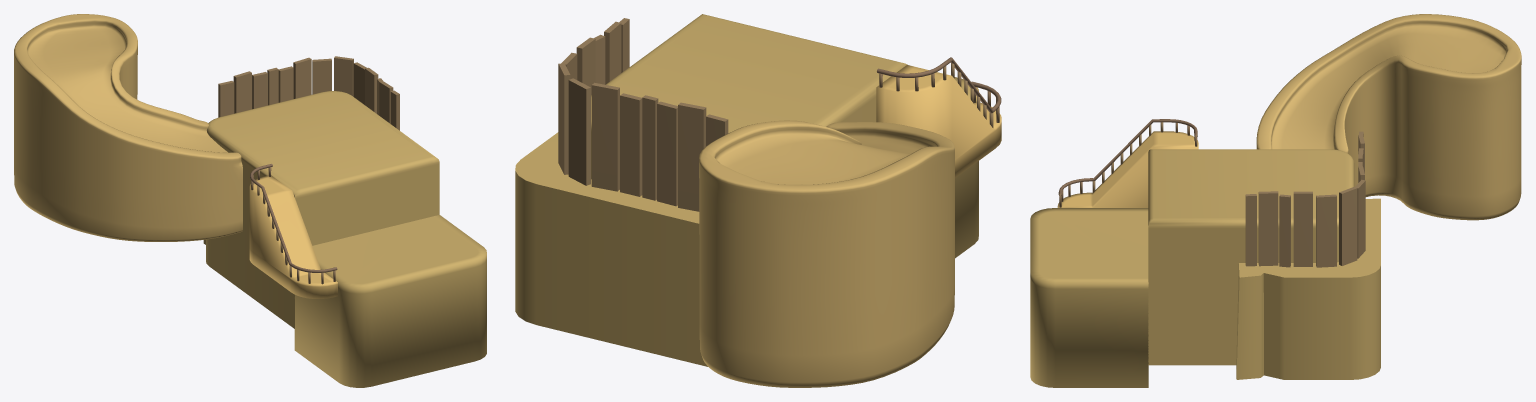
File: Map.fbx
The picture shows the model from 3 angles, left to right: view 1: azimuth 30°, elevation 25°; view 2: azimuth 150°, elevation 25°; view 3: azimuth 270°, elevation 25°; orthographic projection. The views are drawn at different scales.
Visible parts, largest first — view 1: Cylinder, Floor.002, Floor.003, Cube.003; view 2: Floor.002, Cylinder, Cube.003, Floor.003; view 3: Floor.002, Cylinder, Floor.003, Cube.003.
Part boxes in pixels (left/top/right/bottom): Cylinder: left=14, top=14, right=242, bottom=241; Floor.002: left=203, top=56, right=439, bottom=328; Floor.003: left=294, top=215, right=486, bottom=387; Cube.003: left=249, top=164, right=337, bottom=298; Floor.002: left=515, top=14, right=907, bottom=366; Cylinder: left=699, top=120, right=954, bottom=387; Cube.003: left=876, top=57, right=1001, bottom=177; Floor.003: left=954, top=77, right=978, bottom=258; Floor.002: left=1148, top=131, right=1380, bottom=379; Cylinder: left=1256, top=14, right=1521, bottom=220; Floor.003: left=1030, top=208, right=1148, bottom=387; Cube.003: left=1057, top=119, right=1198, bottom=207.
Size of the model in its own units: 5731 by 3867 by 7463.
